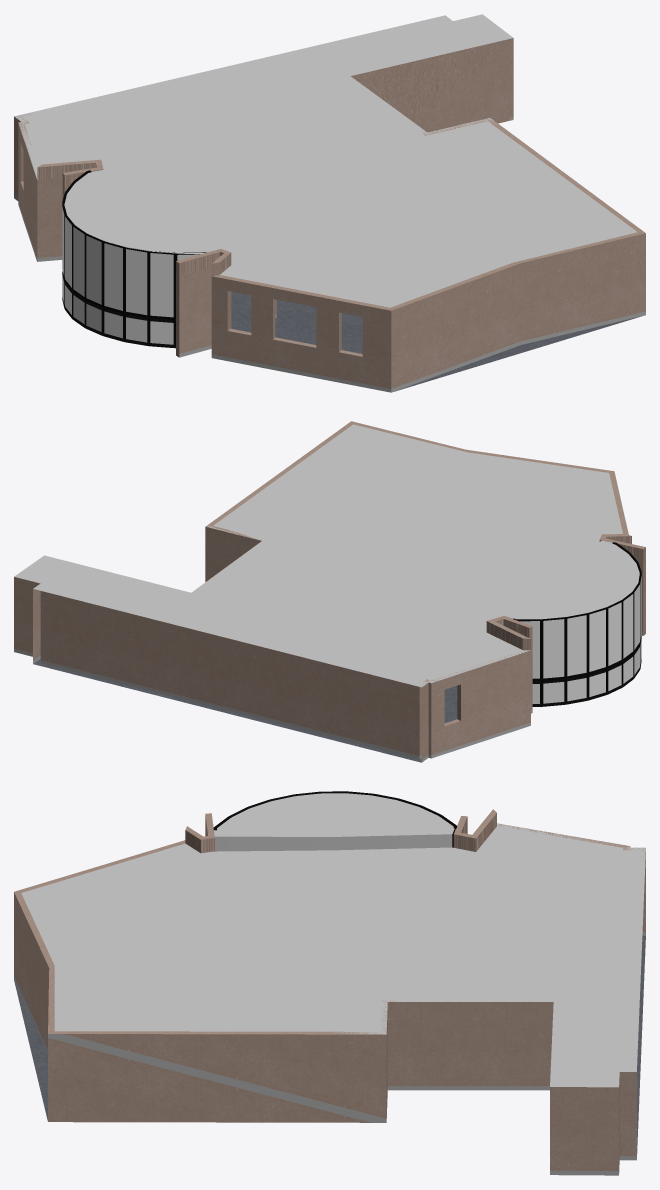
Rendered from OfficeFix.fbx.
3 renders of one model, top to bottom at view 1: azimuth 30°, elevation 25°; view 2: azimuth 150°, elevation 25°; view 3: azimuth 270°, elevation 25°, orthographic. The views are drawn at different scales.
Visible parts, largest first — view 1: Roof, Wall, RoundWindowGlass.001, Floor, RoundWindowMetal.001; view 2: Roof, Wall, RoundWindowGlass.001, RoundWindowMetal.001, Floor; view 3: Roof, Wall, Floor, RoundWindowMetal.001.
Boxes of the visible parts, bbox=[...] form: Roof: bbox=[15, 14, 637, 307]; Wall: bbox=[14, 38, 645, 392]; RoundWindowGlass.001: bbox=[62, 207, 198, 344]; Floor: bbox=[231, 292, 642, 391]; RoundWindowMetal.001: bbox=[62, 170, 206, 348]; Roof: bbox=[14, 424, 639, 687]; Wall: bbox=[14, 421, 645, 762]; RoundWindowGlass.001: bbox=[520, 576, 641, 703]; RoundWindowMetal.001: bbox=[513, 542, 641, 706]; Floor: bbox=[33, 659, 457, 762]; Roof: bbox=[21, 793, 645, 1087]; Wall: bbox=[14, 809, 645, 1175]; Floor: bbox=[14, 936, 645, 1153]; RoundWindowMetal.001: bbox=[213, 791, 456, 847].
Bounding box in the file's own units: 20.55 × 3.49 × 19.48.
